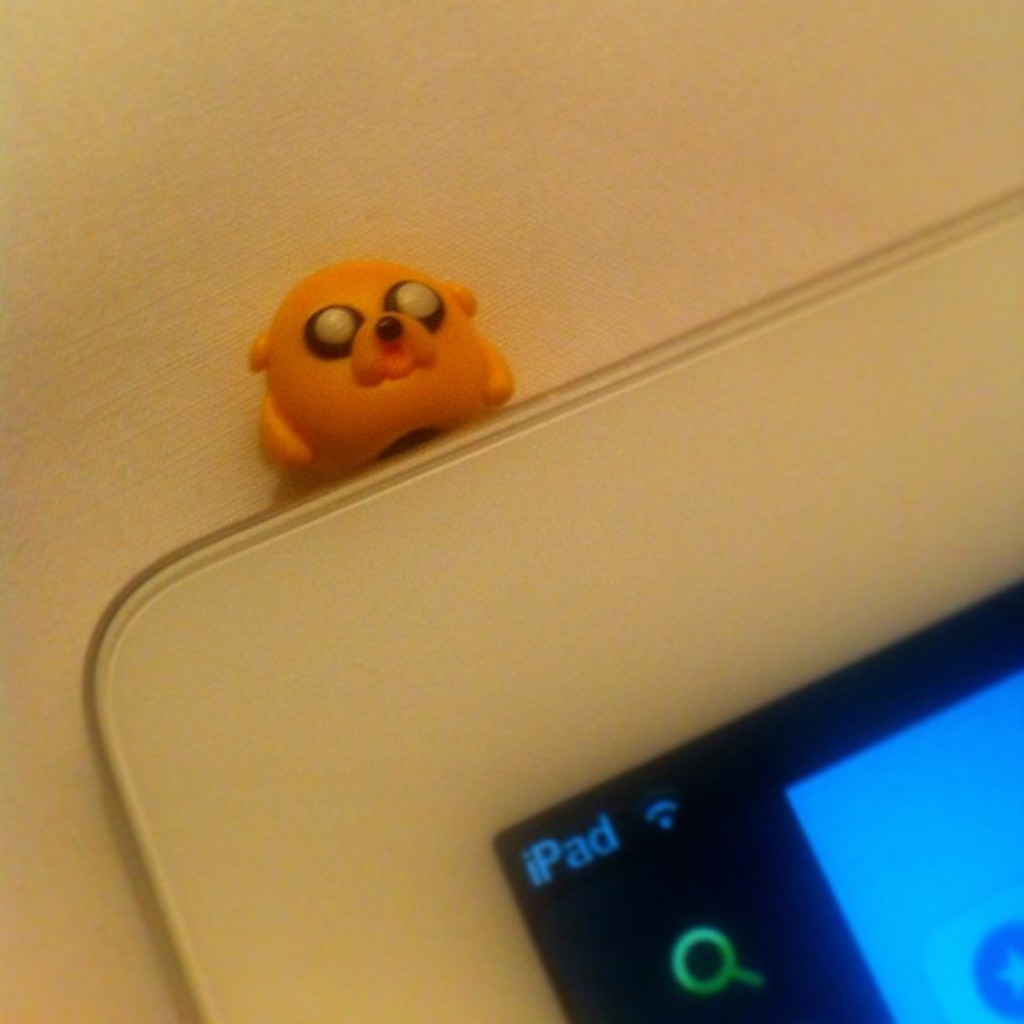Mobile-phone: (87, 177, 1022, 1022)
